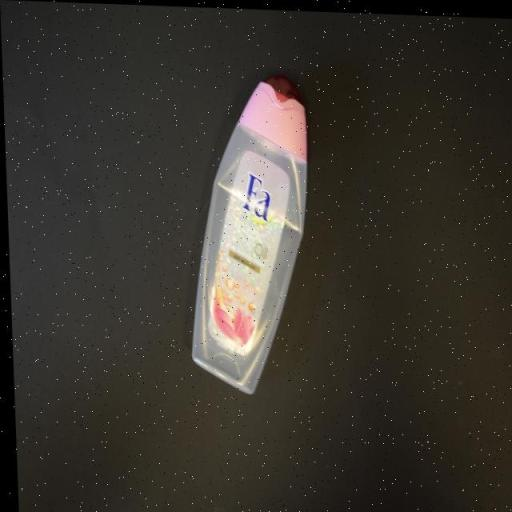plastic: (178, 64, 316, 397)
